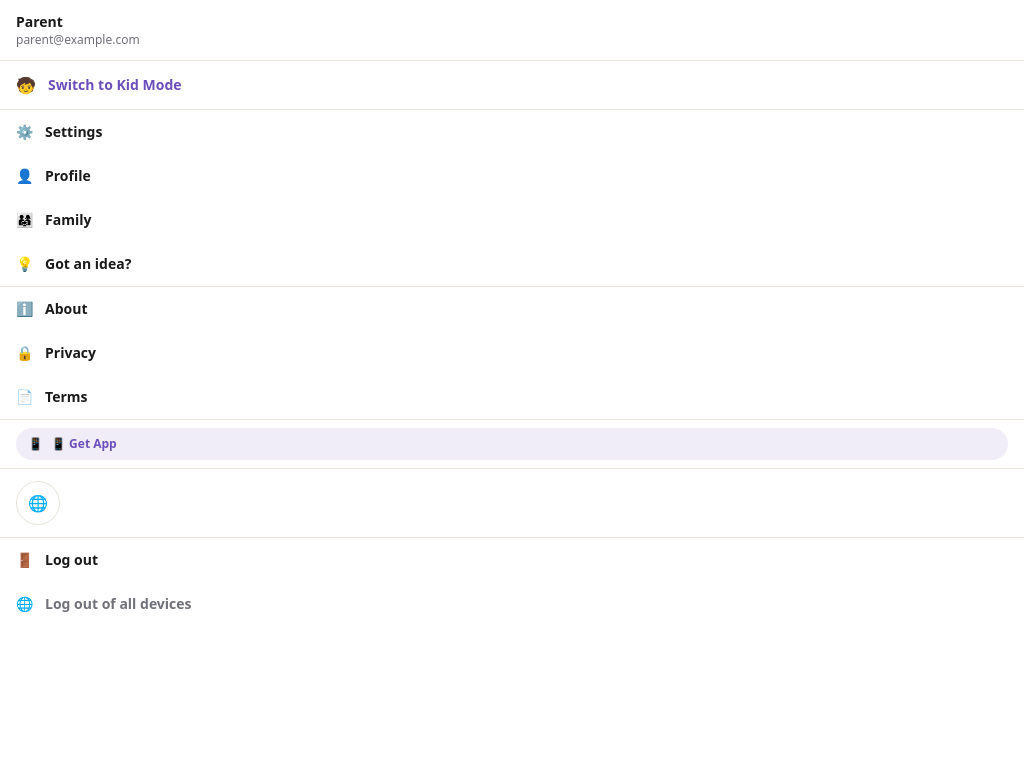
UserMenuItems › opens a confirmation dialog when "Log out of all devices" is clicked
The image size is (1024, 768).
Click the button "🌐 Log out of all devices": (118, 604) x1=0 y1=582 x2=1023 y2=626
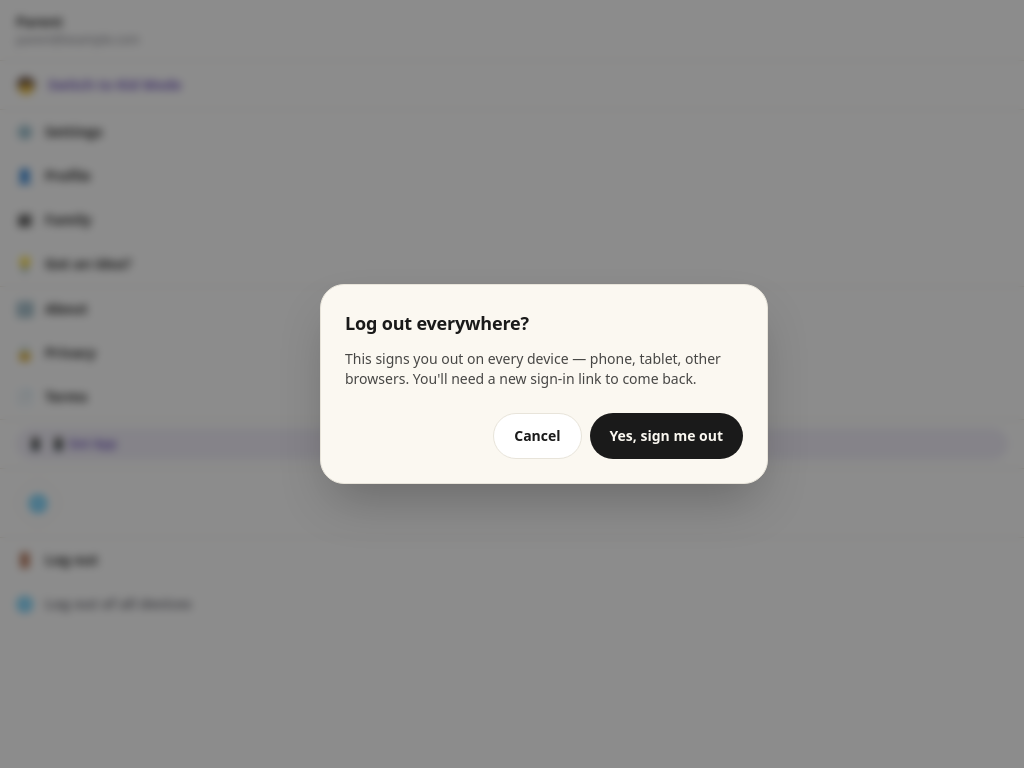
Expected: the dialog is shown, x1=320 y1=284 x2=768 y2=484
Expected: the heading "Log out everywhere?" is shown, x1=345 y1=311 x2=529 y2=335
